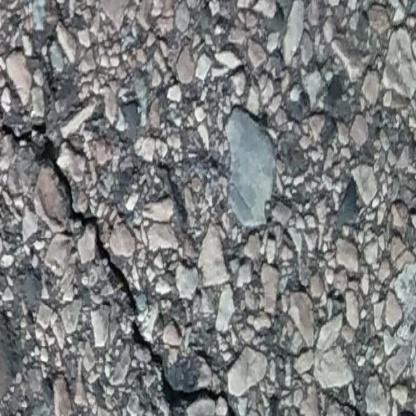Cracks: (0, 71, 313, 416), (323, 392, 367, 416)
